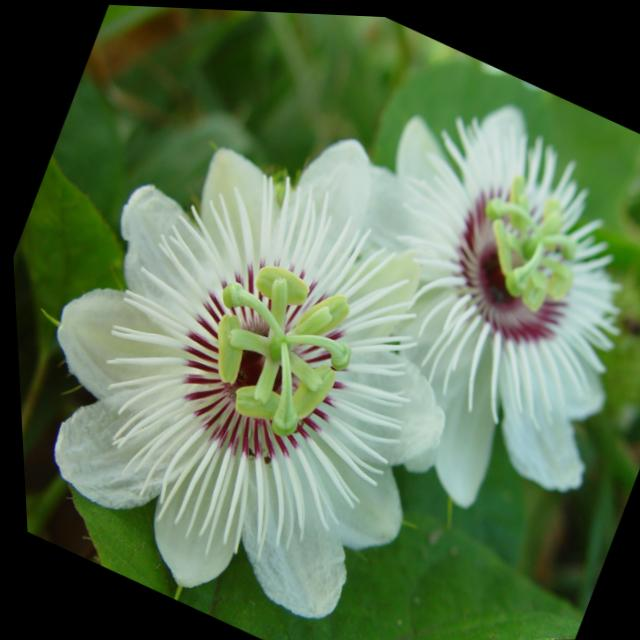Flower: (2, 55, 529, 640), (255, 53, 640, 557)
